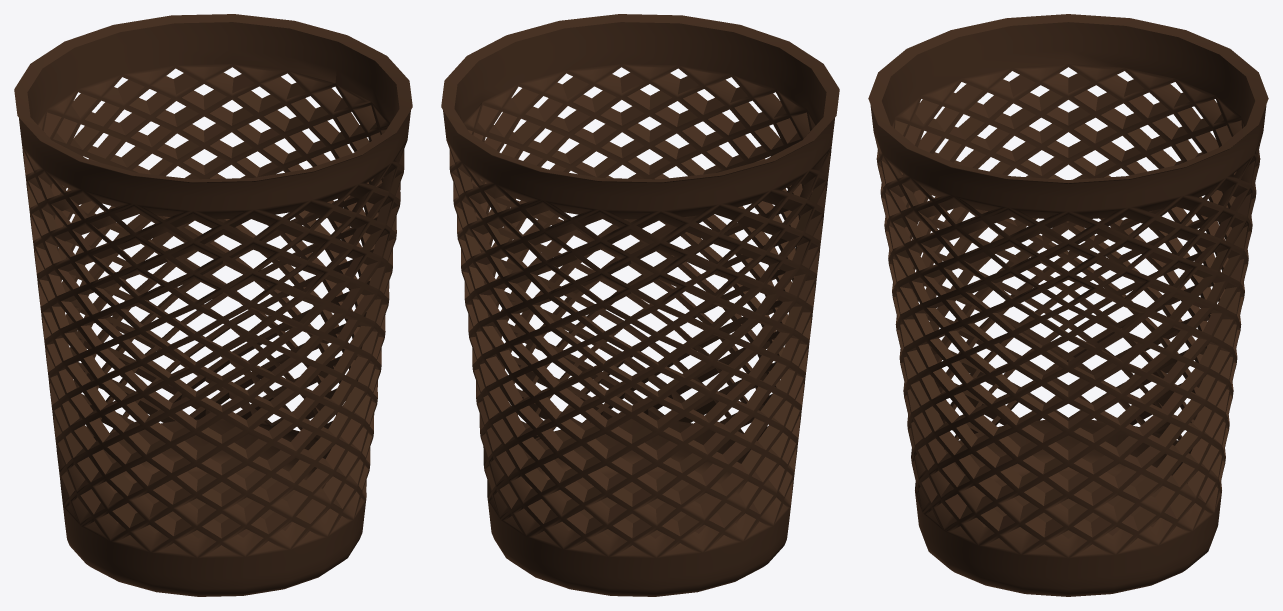
File: trashcan.glb
3 views of the same model, side by side, from view 1: azimuth 30°, elevation 25°; view 2: azimuth 150°, elevation 25°; view 3: azimuth 270°, elevation 25° (orthographic).
Visible parts, largest first — view 1: pCylinder12_Bin:lambert3_0; view 2: pCylinder12_Bin:lambert3_0; view 3: pCylinder12_Bin:lambert3_0.
Boxes of the visible parts, x1,y1,x2,y2 form: pCylinder12_Bin:lambert3_0: (14, 14, 412, 596); pCylinder12_Bin:lambert3_0: (441, 14, 839, 596); pCylinder12_Bin:lambert3_0: (868, 14, 1268, 596).
Size of the model in its own units: 0.3181 by 0.3863 by 0.3181.
